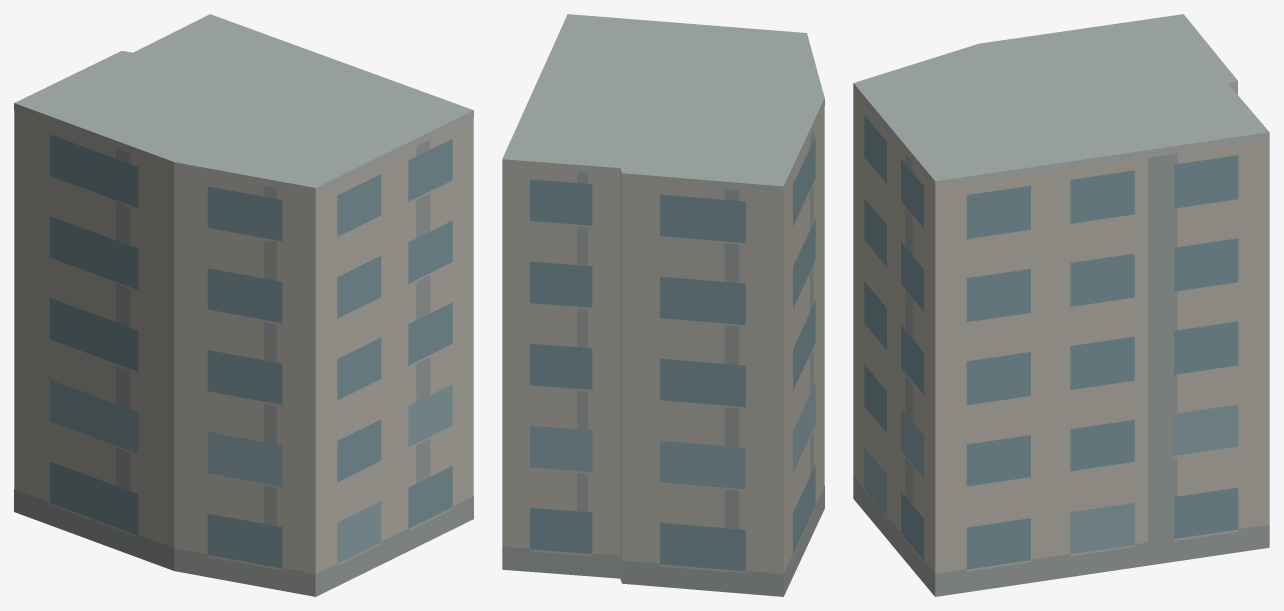
File: survey-upis-32874320.glb
The picture shows the model from 3 angles, left to right: view 1: azimuth 30°, elevation 25°; view 2: azimuth 150°, elevation 25°; view 3: azimuth 270°, elevation 25°; orthographic projection.
Visible parts, largest first — view 1: survey-upis-32874320.tmp; view 2: survey-upis-32874320.tmp; view 3: survey-upis-32874320.tmp.
Boxes of the visible parts, bbox=[...] form: survey-upis-32874320.tmp: bbox=[14, 14, 473, 596]; survey-upis-32874320.tmp: bbox=[502, 14, 824, 596]; survey-upis-32874320.tmp: bbox=[853, 14, 1269, 596].
Size of the model in its own units: 11.41 by 13.2 by 11.99.
